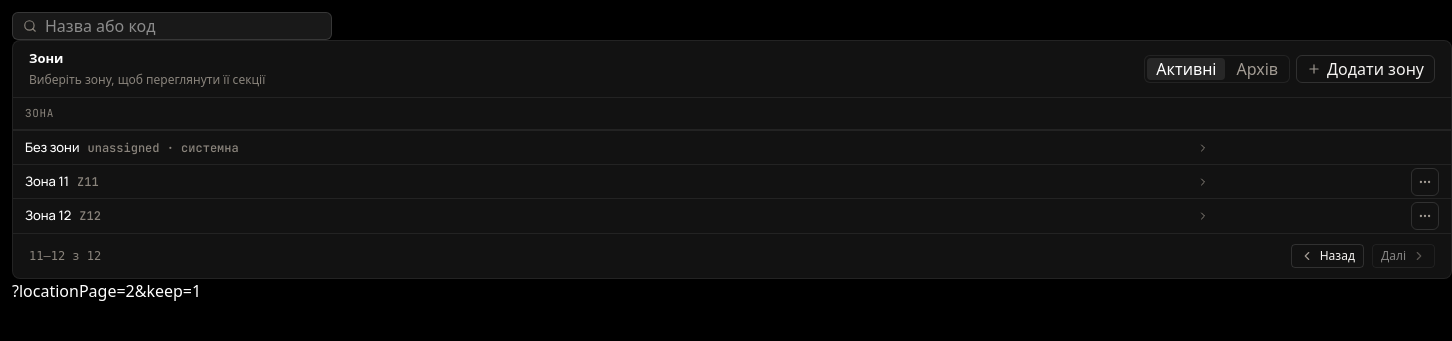
searches physical zones by code, resets pagination and keeps unassigned visible
Expected: the heading "Зони" is shown, [29,49,63,68]
Type "Z1" into the search field named "Пошук зони" at (183, 26), box [45,14,321,38]
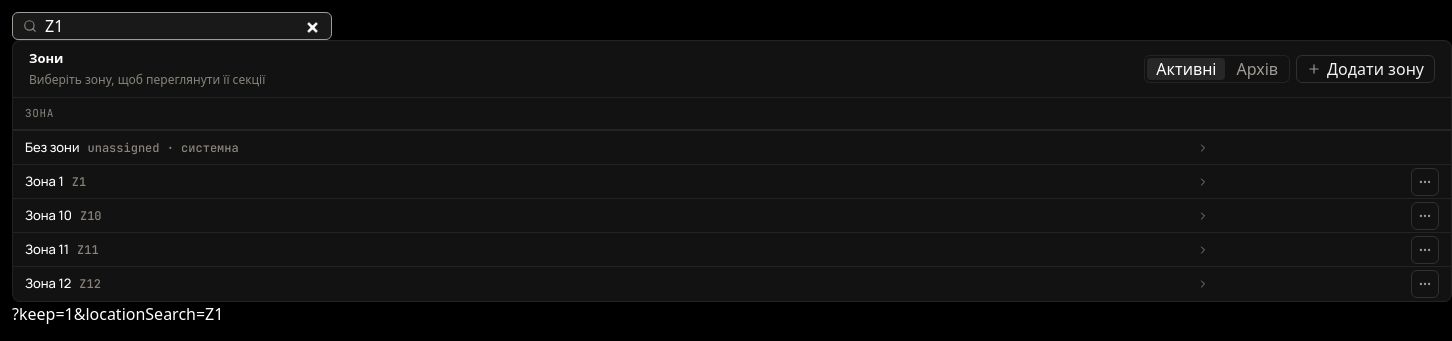
Expected: the text with test id "url" shows "keep=1", [12,302,223,324]
Result: the link "Зона 1 Z1" is shown at [25,172,86,190]
Result: the text with test id "url" no longer shows "locationPage" at [12,302,223,324]
Replace the text in the search field named "Пошук зони" with "missing" at (183, 26), box [45,14,321,38]
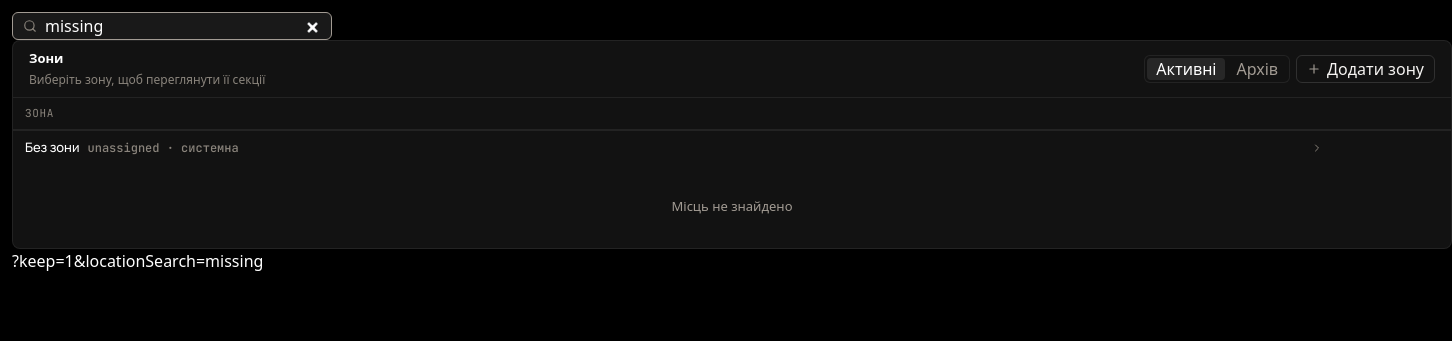
Expected: the link "Без зони unassigned · системна" is shown, [25,138,239,156]
Result: the text "Місць не знайдено" is shown at [672,196,792,214]
